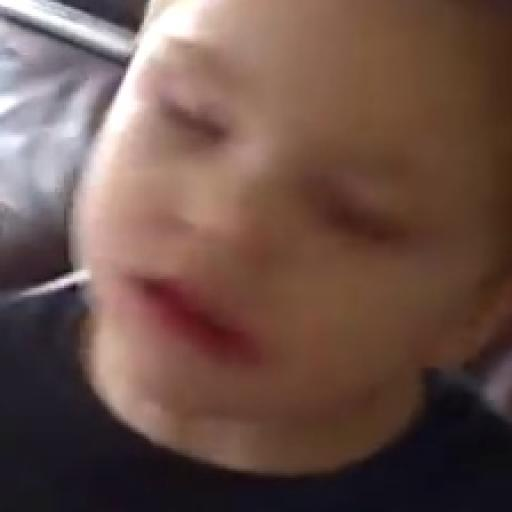Autism: (64, 10, 511, 512)
